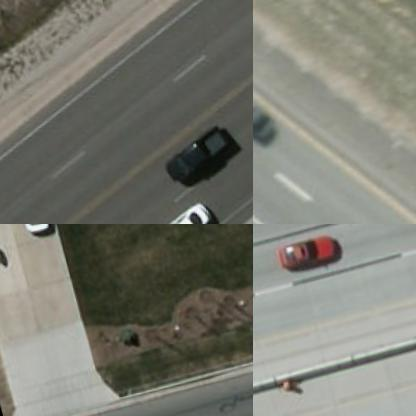car: (271, 234, 345, 280), (253, 73, 283, 155), (141, 207, 213, 223), (10, 224, 54, 239)
pickup: (150, 128, 234, 192)
